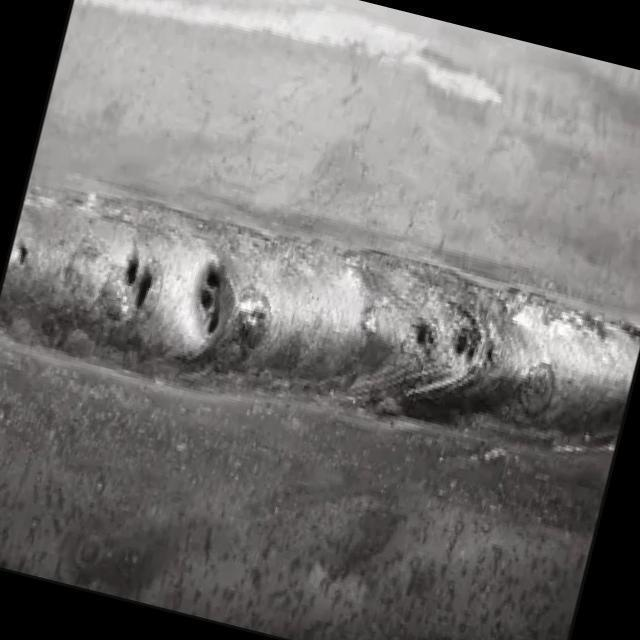defect: (114, 242, 157, 319), (192, 256, 227, 346), (446, 321, 497, 369), (407, 311, 446, 358), (9, 238, 31, 271)
